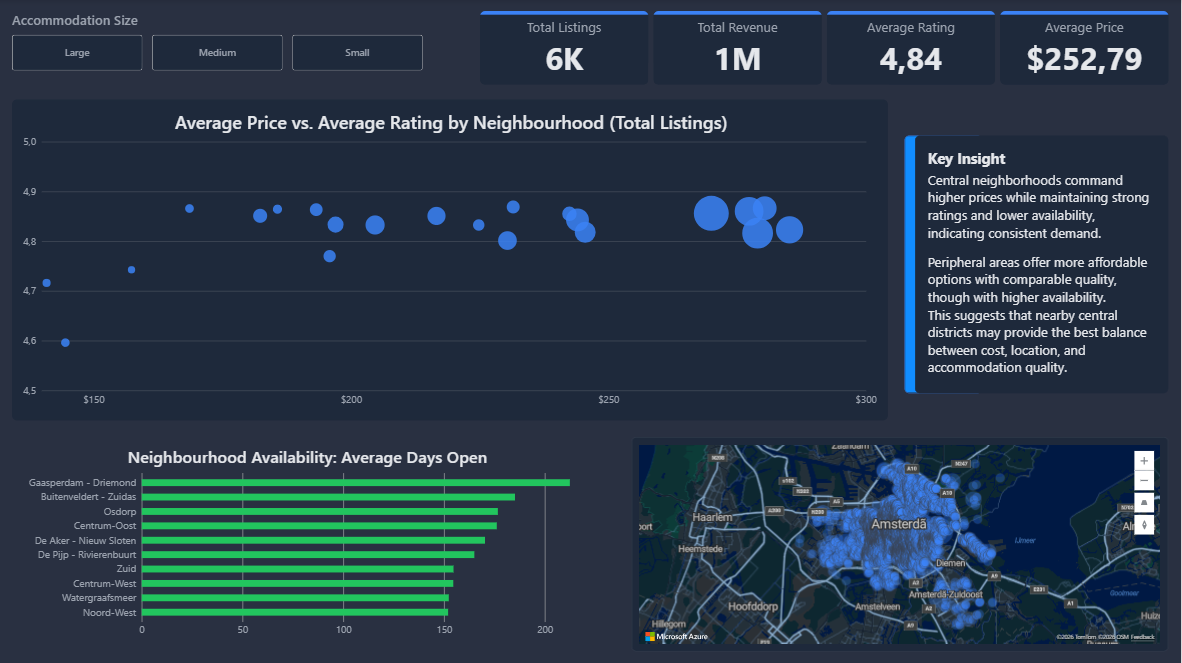

What the dashboard file says about the page in this screenshot:
{"tool":"powerbi","page":{"name":"Market Overview","canvas":[1920,1080],"ordinal":0},"visuals":[{"type":"cardVisual","fields":{"Data":["Measures Table.Total Listings","Measures Table.Total Revenue","Measures Table.Average Rating","Measures Table.Average Price"]},"box":[780,20,1120,120.4],"z":0},{"type":"scatterChart","title":"Average Price vs. Average Rating by Neighbourhood (Total Listings)","fields":{"Category":["listings.neighbourhood_cleansed"],"Size":["Measures Table.Total Listings"],"X":["Measures Table.Average Price"],"Y":["Measures Table.Average Rating"]},"box":[19.5,163.5,1424.9,522.1],"z":1000},{"type":"clusteredBarChart","title":"Neighbourhood Availability: Average Days Open","fields":{"Category":["listings.neighbourhood_cleansed"],"Y":["Measures Table.Average Availability"]},"box":[19.5,712.4,961.3,346.5],"z":2000},{"type":"azureMap","fields":{"Size":["Measures Table.Total Listings"],"X":["listings.longitude"],"Y":["listings.latitude"]},"box":[1027.2,712.4,873.5,348.9],"z":3000},{"type":"advancedSlicerVisual","title":"Accommodation Size","fields":{"Values":["listings.Accomodation Segment"]},"box":[19.5,19.5,668.5,97.6],"z":5000},{"type":"shape","box":[1471.2,222,126.9,419.6],"z":6000,"group":"g1"},{"type":"textbox","title":"Key Insight","box":[1488.3,222,412.3,419.6],"z":7000,"group":"g1"},{"type":"group","id":"g1","title":"Insight","box":[1471.2,222,429.4,419.6],"z":7001}]}

Visuals, with their boxes in screenshot pixels (x1, y1, x2, y2), scaled from the page's 1920x1080 canvas onto the 1182x663 screenshot:
cardVisual - Measures Table.Total Listings x Measures Table.Total Revenue: (left=480, top=12, right=1170, bottom=86)
"Average Price vs. Average Rating by Neighbourhood (Total Listings)" scatterChart: (left=12, top=100, right=889, bottom=421)
"Neighbourhood Availability: Average Days Open" clusteredBarChart: (left=12, top=437, right=604, bottom=650)
azureMap - Measures Table.Total Listings x listings.longitude: (left=632, top=437, right=1170, bottom=652)
"Accommodation Size" advancedSlicerVisual: (left=12, top=12, right=424, bottom=72)
shape: (left=906, top=136, right=984, bottom=394)
"Key Insight" textbox: (left=916, top=136, right=1170, bottom=394)
"Insight" group: (left=906, top=136, right=1170, bottom=394)
